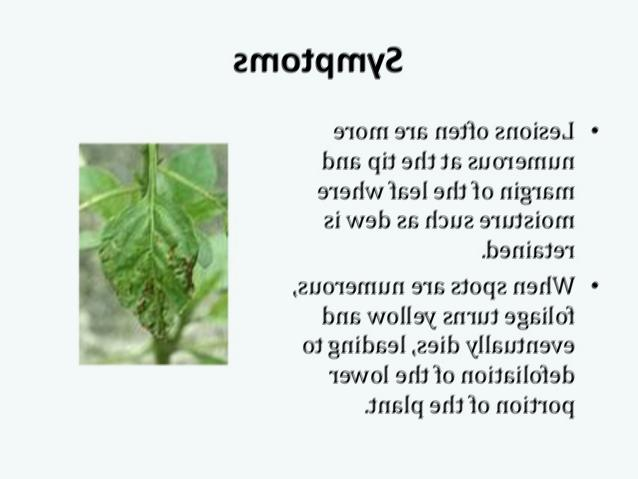Tomato leaf bacterial spot: (100, 192, 200, 349)
